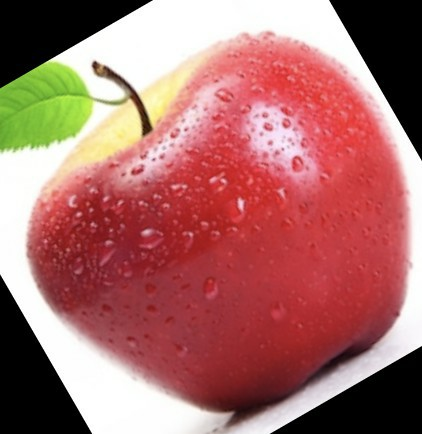fresh_apple: (27, 28, 413, 410)
